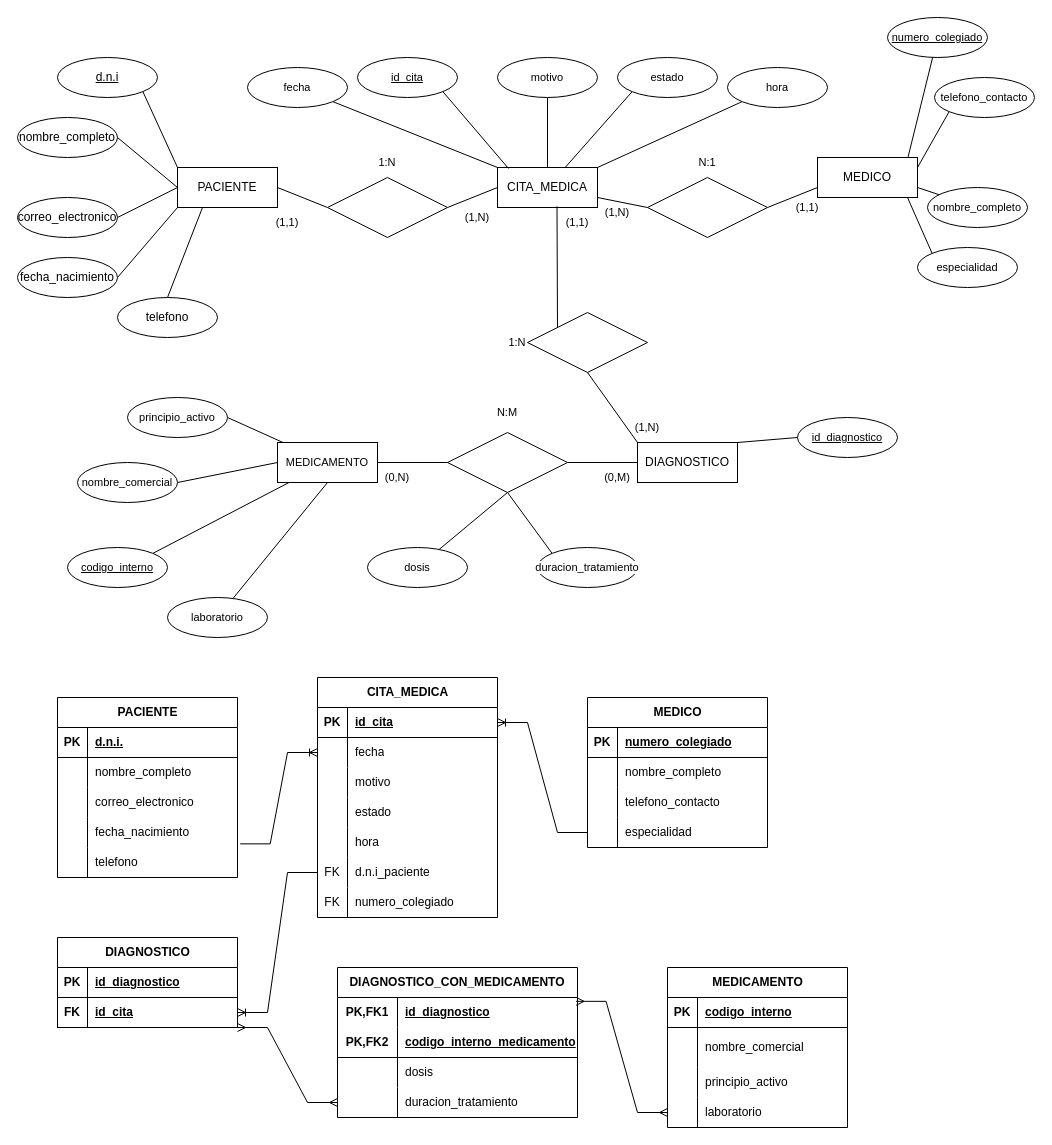
The diagram is 1052 pixels wide and 1145 high, and some of its shapes have lost their labels. The centre of each missing label's shape, as x and y in pixels:
ATIENDE: the point at 707,207
GENERA: the point at 587,342
INCLUYE: the point at 507,462
SOLICITA: the point at 387,207
